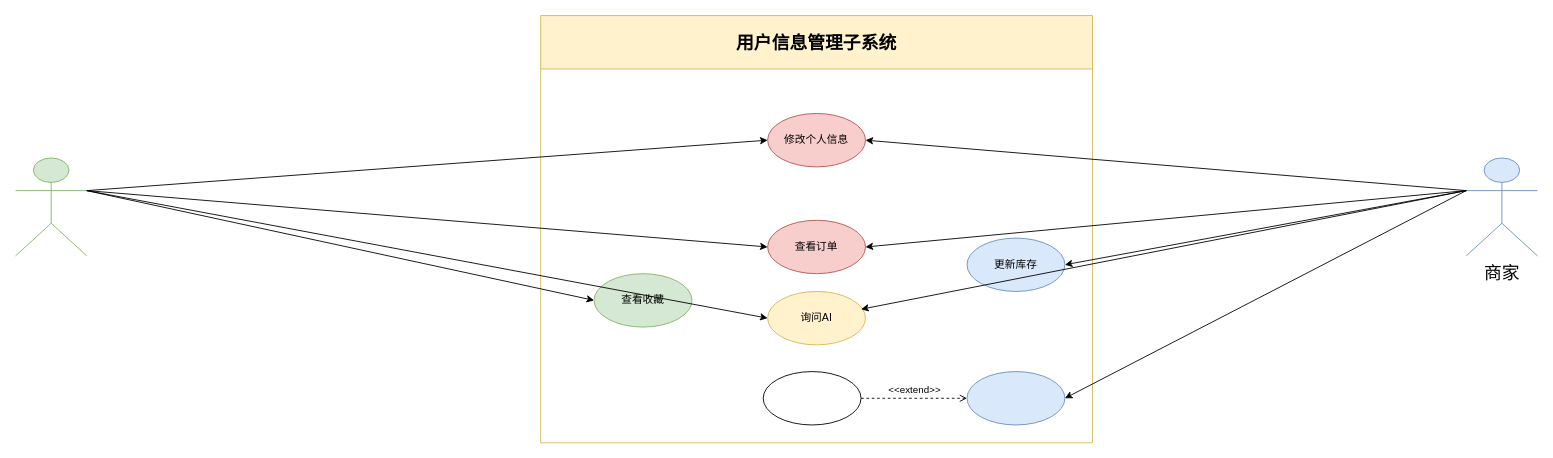
Image size: 1553x458. Some labels were removed from this diagram. The centre of each missing label's shape, as x and y in pixels:
买家: (x=51, y=206)
查看上架乐器: (x=1015, y=398)
查看评价: (x=811, y=398)
